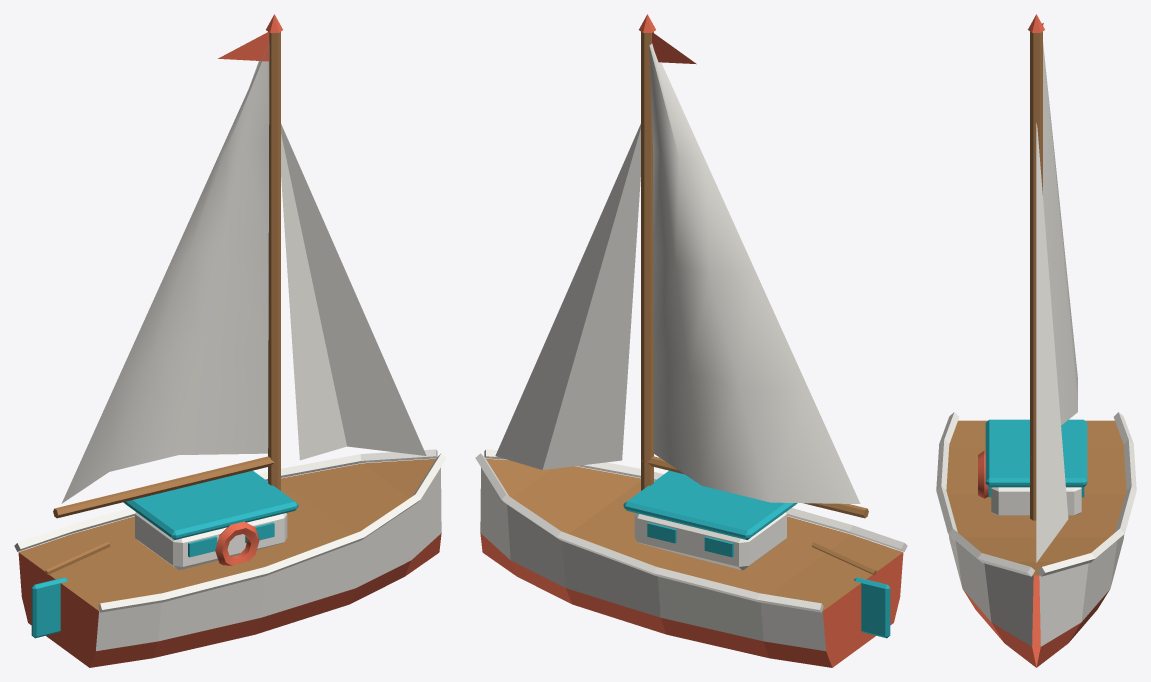
The model's file is sailboat.glb.
3 views of the same model, side by side, from view 1: azimuth 30°, elevation 25°; view 2: azimuth 150°, elevation 25°; view 3: azimuth 270°, elevation 25° (orthographic).
Visible parts, largest first — view 1: sailboat; view 2: sailboat; view 3: sailboat.
Part boxes in pixels (box(x1,y1,x2,y2)): sailboat: box(14, 14, 446, 667); sailboat: box(475, 14, 907, 667); sailboat: box(936, 14, 1136, 667).
Bounding box in the file's own units: 3.23 × 4.36 × 1.38.
